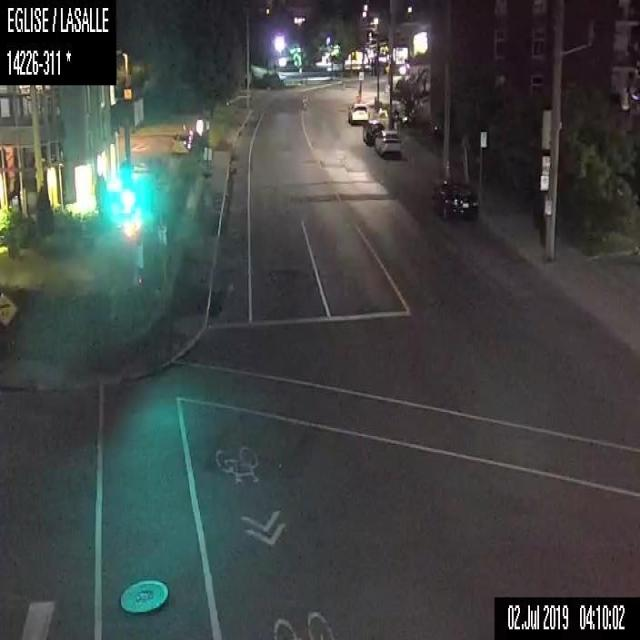vehicle: (428, 179, 478, 221), (171, 122, 196, 154), (374, 128, 400, 157), (362, 119, 384, 146), (346, 100, 368, 124)
